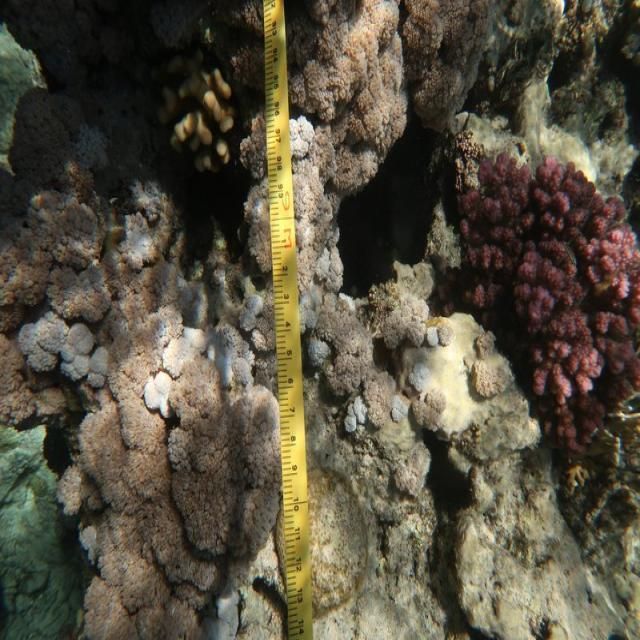Healthy Coral: (448, 147, 640, 455)
